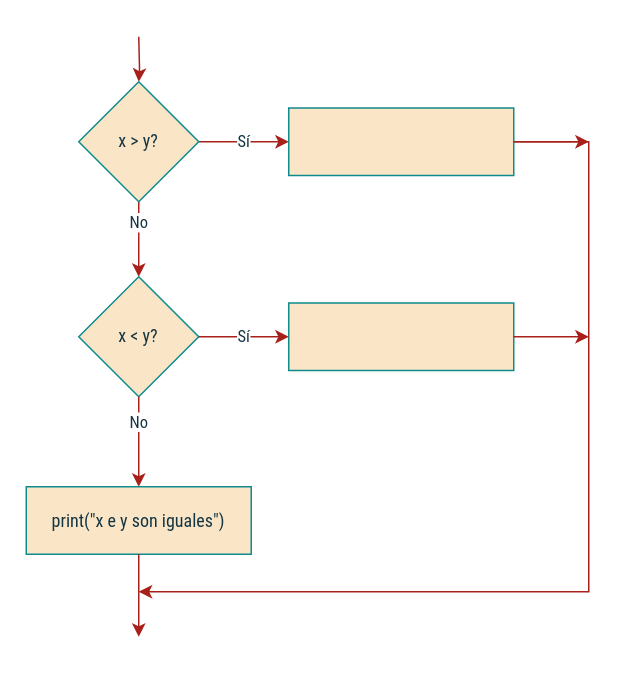
Some shapes in this 627 by 675 pixel diagram are drawn without their labels. Each missing label, with the box of its shape:
print("x es mayor"): (287, 106, 514, 176)
print("y es mayor"): (287, 302, 514, 370)
